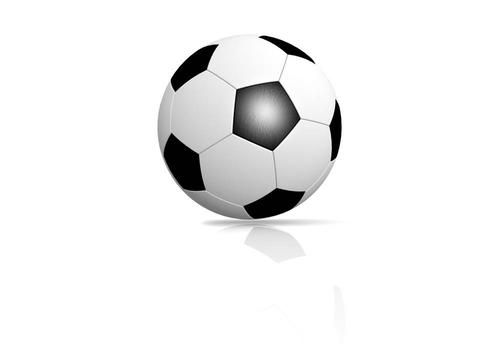football: (152, 32, 344, 222)
